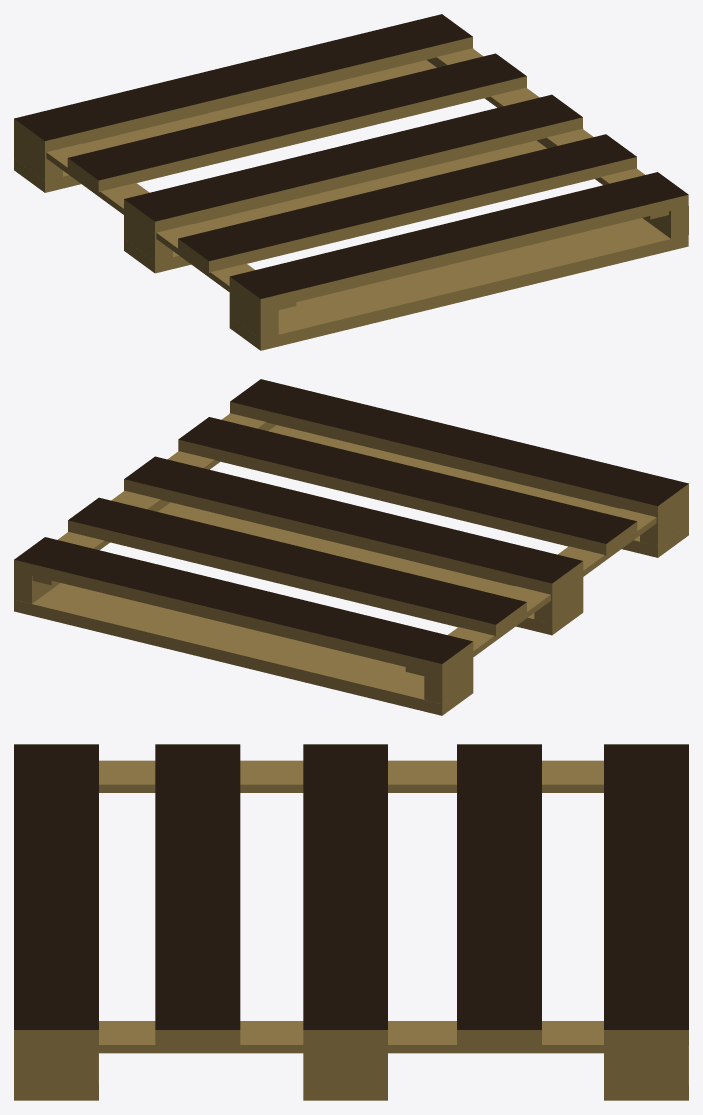
Rendered from O_Clutter_Pallet_1.fbx.
The picture shows the model from 3 angles, top to bottom: view 1: azimuth 30°, elevation 25°; view 2: azimuth 150°, elevation 25°; view 3: azimuth 270°, elevation 25°; orthographic projection. The views are drawn at different scales.
Parts seen in each view (by area): view 1: pCube26; view 2: pCube26; view 3: pCube26.
Boxes of the visible parts, x1,y1,x2,y2 form: pCube26: (14, 14, 688, 350); pCube26: (14, 379, 688, 715); pCube26: (14, 744, 688, 1100).
Size of the model in its own units: 3.03 by 0.3498 by 3.02.
